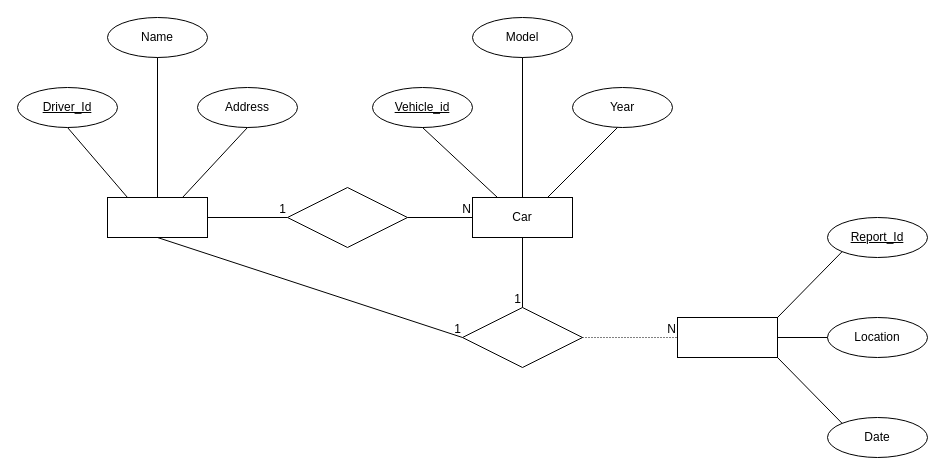
Some shapes in this 945 by 475 pixel diagram are drawn without their labels. The centre of each missing label's shape, as x and y in pixels:
"Accident" belongs at pixel 727 337.
"Has" belongs at pixel 347 217.
"Participate" belongs at pixel 522 337.
"Person" belongs at pixel 157 217.
